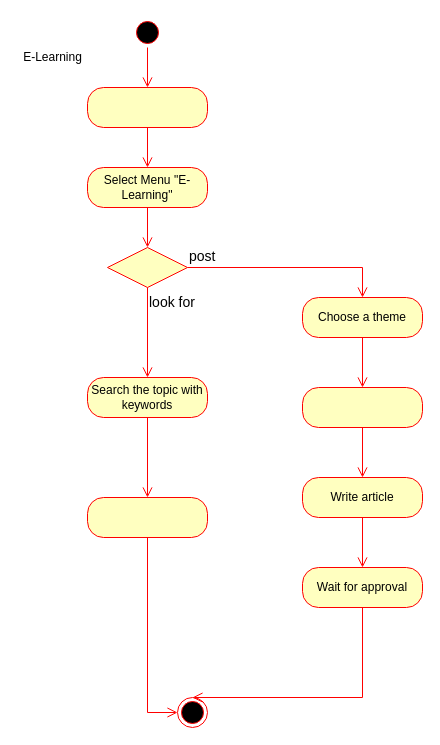
Some shapes in this 440 by 745 pixel diagram are drawn without their labels. The shapes that lost their labels are listed below. From the top down, each one's centre as x and y in pixels, then its label:
At [147,107]: "Login".
At [362,407]: "Specify keywords".
At [147,517]: "Give feedback/ rate".
